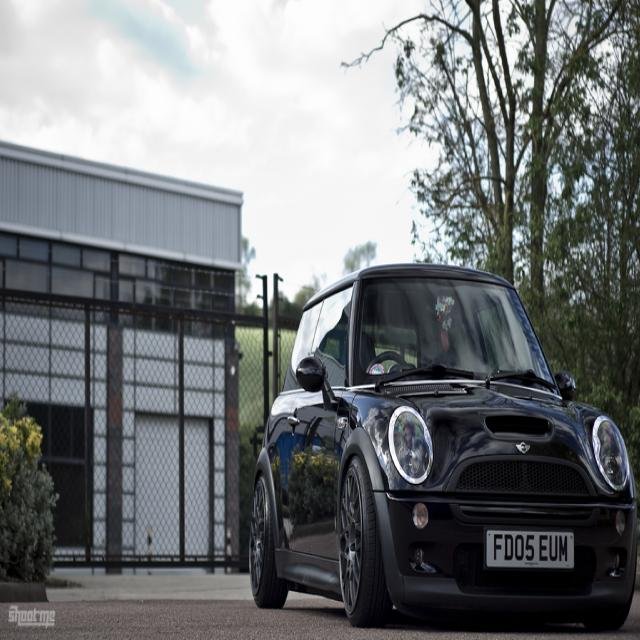car: (249, 257, 636, 626)
